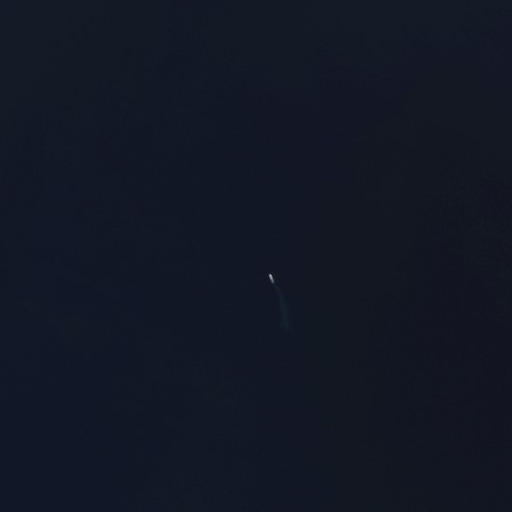ship: (265, 271, 277, 286)
